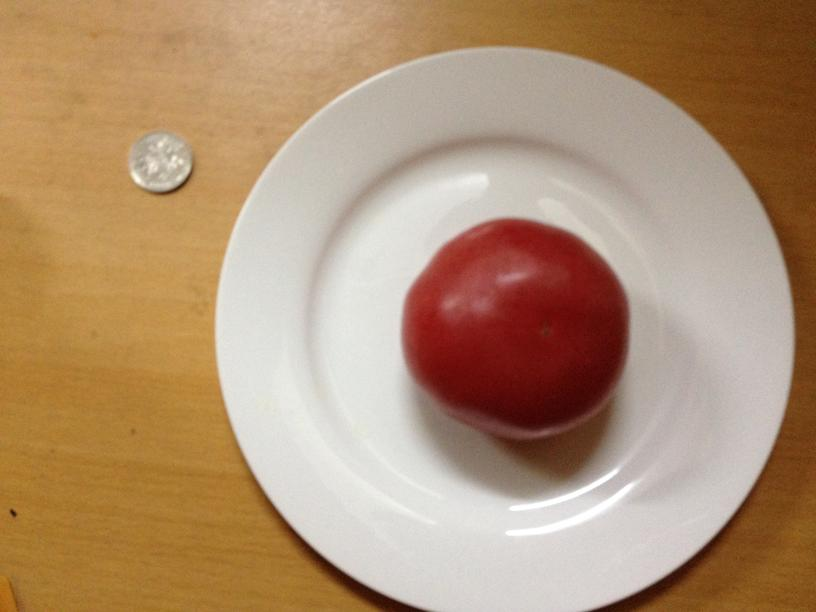coin: (126, 128, 194, 192)
tomato: (401, 213, 632, 443)
